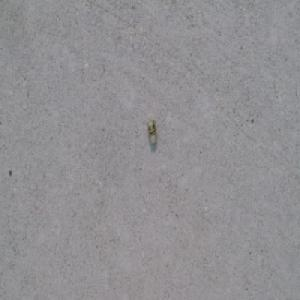BoltNutSet: (146, 119, 156, 145)
